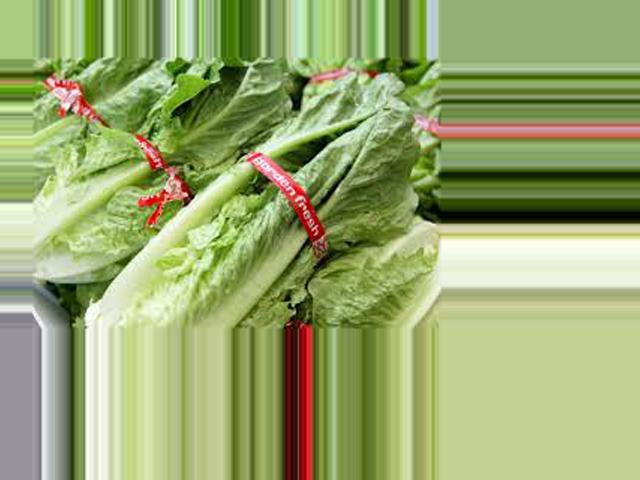lettuce: (88, 69, 421, 330)
